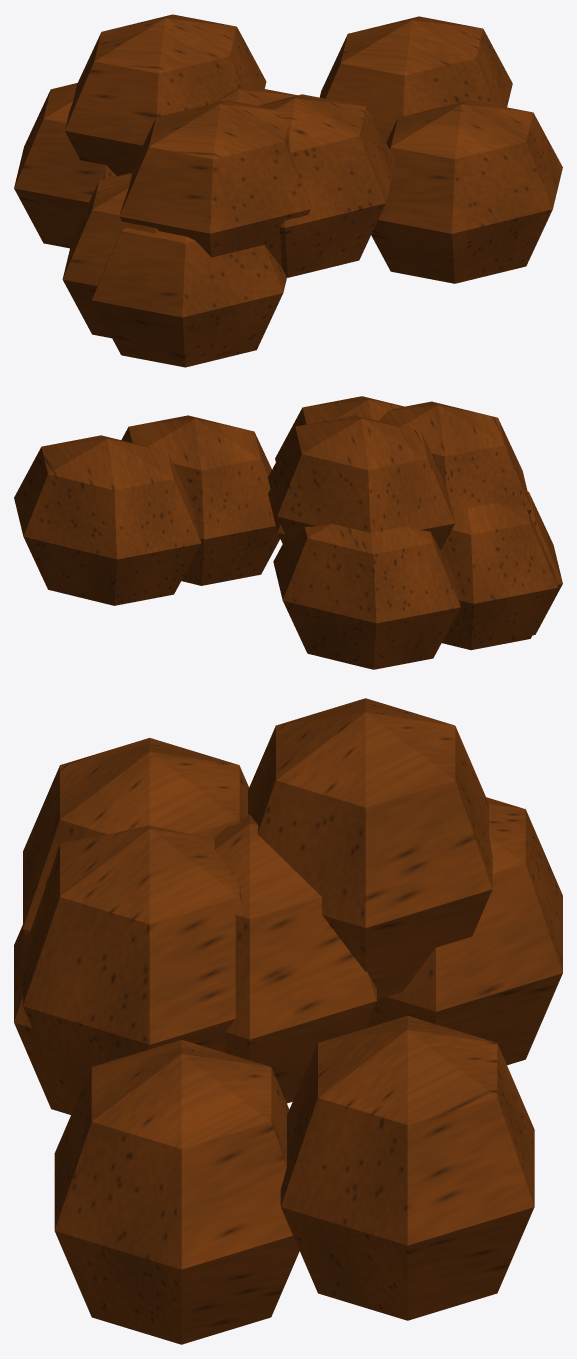
The model's file is PROP-232976AA95F2_lod2.glb.
3 renders of one model, top to bottom at view 1: azimuth 30°, elevation 25°; view 2: azimuth 150°, elevation 25°; view 3: azimuth 270°, elevation 25°, orthographic. The views are drawn at different scales.
Parts seen in each view (by area): view 1: foliage.012; view 2: foliage.012; view 3: foliage.012.
Part boxes in pixels (x1,y1,x2,y2): foliage.012: (14, 14, 562, 367); foliage.012: (14, 396, 562, 669); foliage.012: (14, 698, 562, 1344).
Bounding box in the file's own units: 1.54 × 0.8023 × 0.8992.
Materials: 1 (1 with a texture image).
